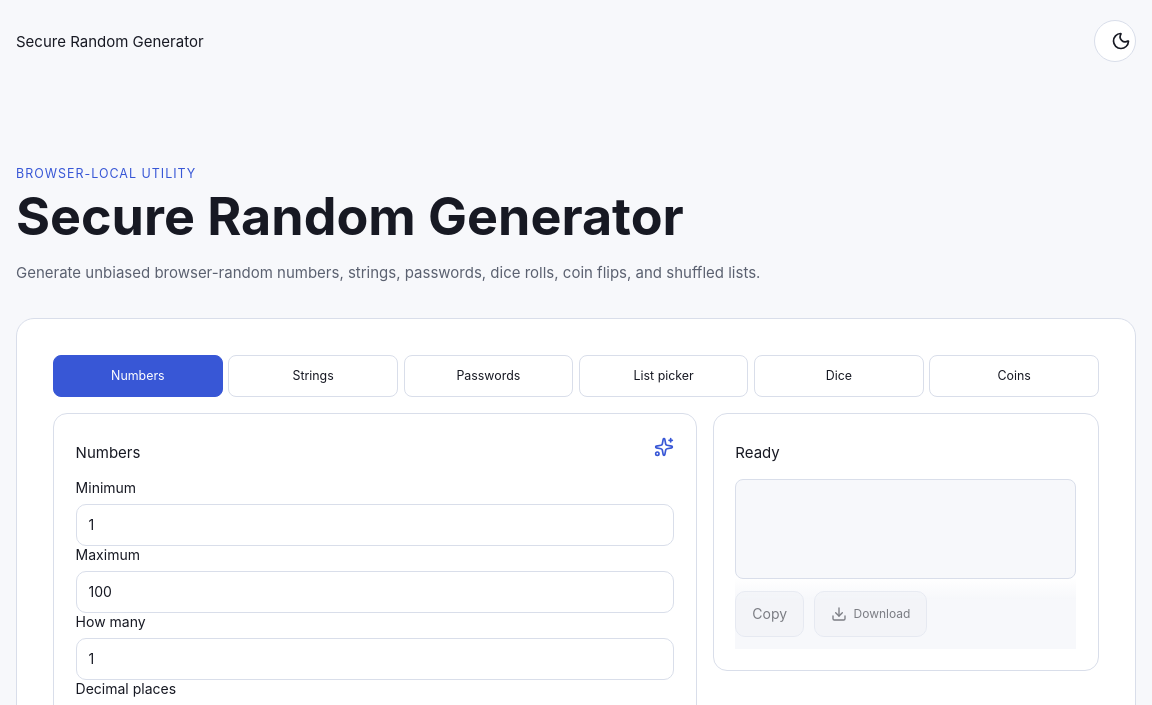
Random Generator › generates the full unique integer range in sorted order
Replace the text in the number field labelled "Maximum" with "3": (375, 592) left=76, top=571, right=674, bottom=613
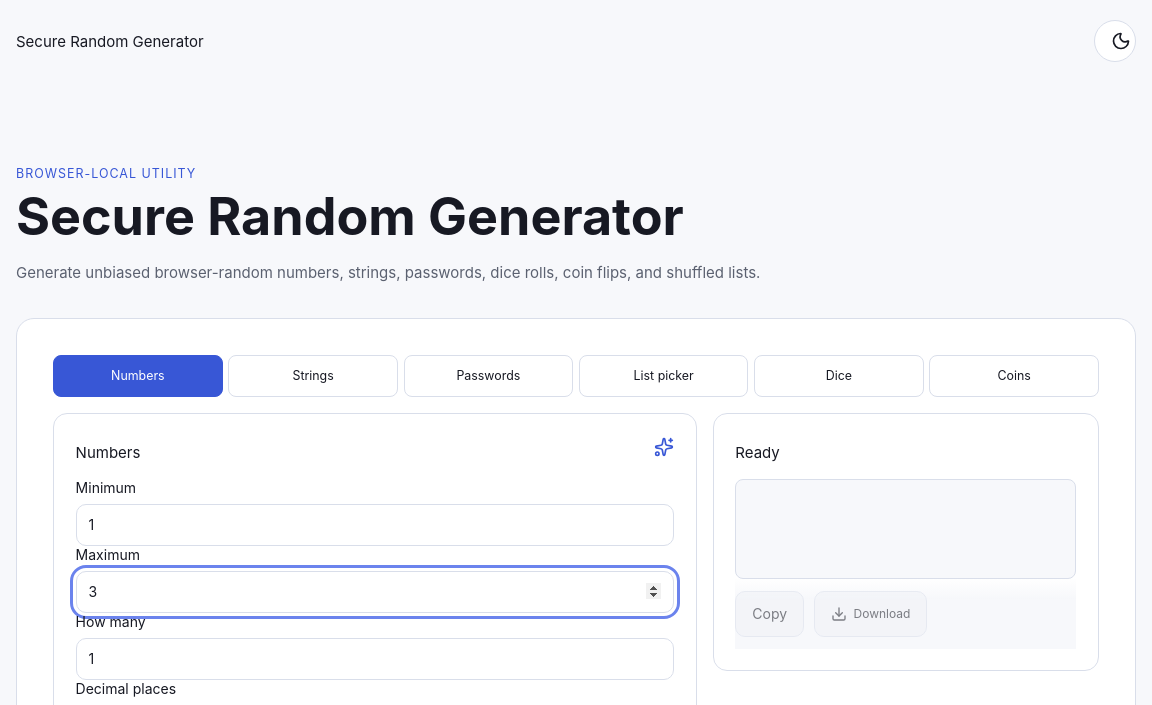
Replace the text in the number field labelled "How many" with "3": (375, 659) left=76, top=638, right=674, bottom=680
(page scrolled)
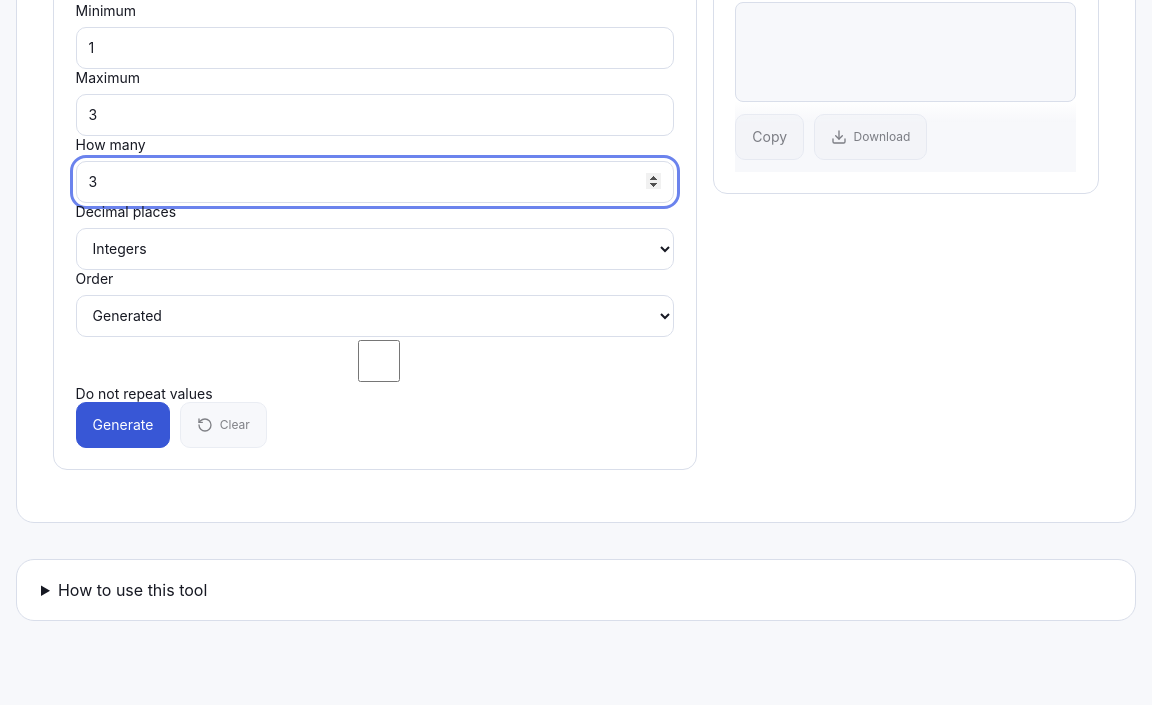
Click the checkbox labelled "Do not repeat values": click(379, 361) left=80, top=340, right=678, bottom=382
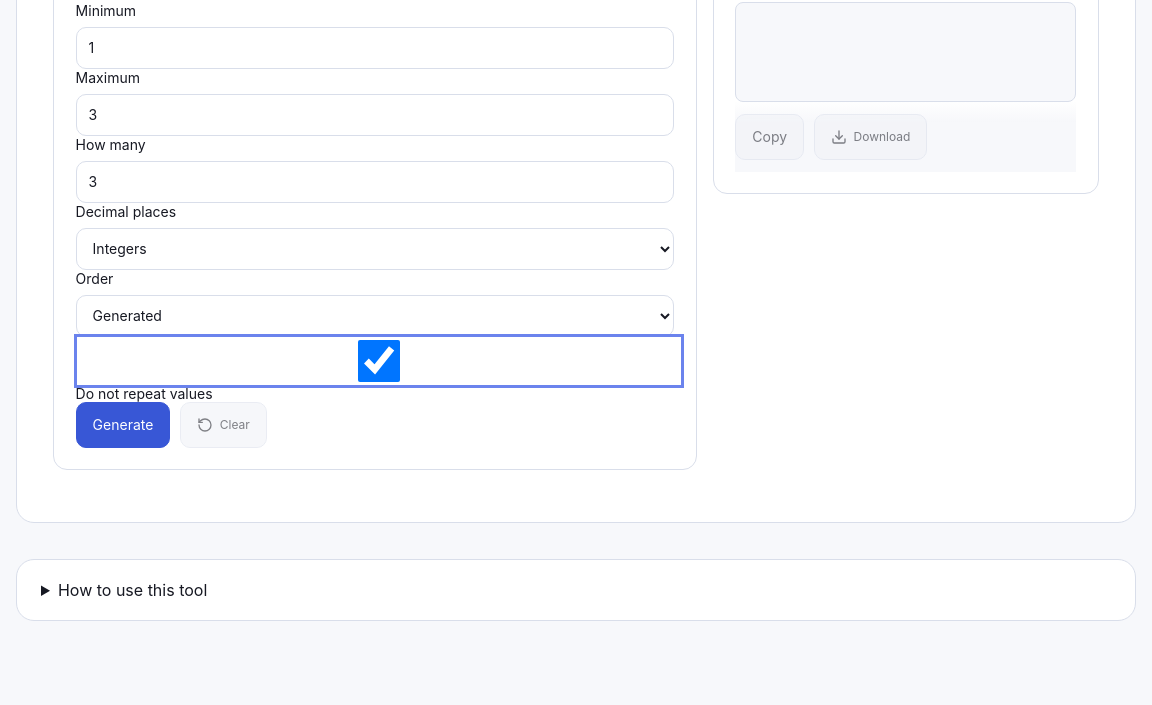
Select "Lowest" in the dropdown labelled "Order": (375, 316) left=76, top=295, right=674, bottom=337
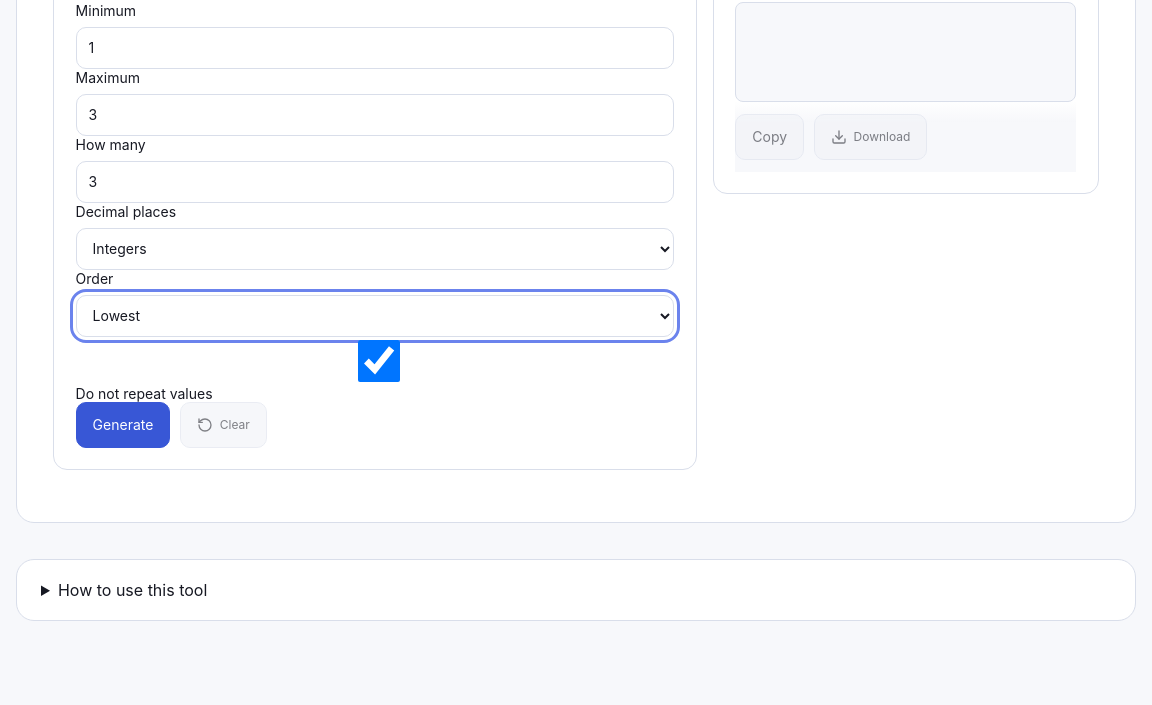
Click the button "Generate": click(123, 425) left=76, top=402, right=170, bottom=448
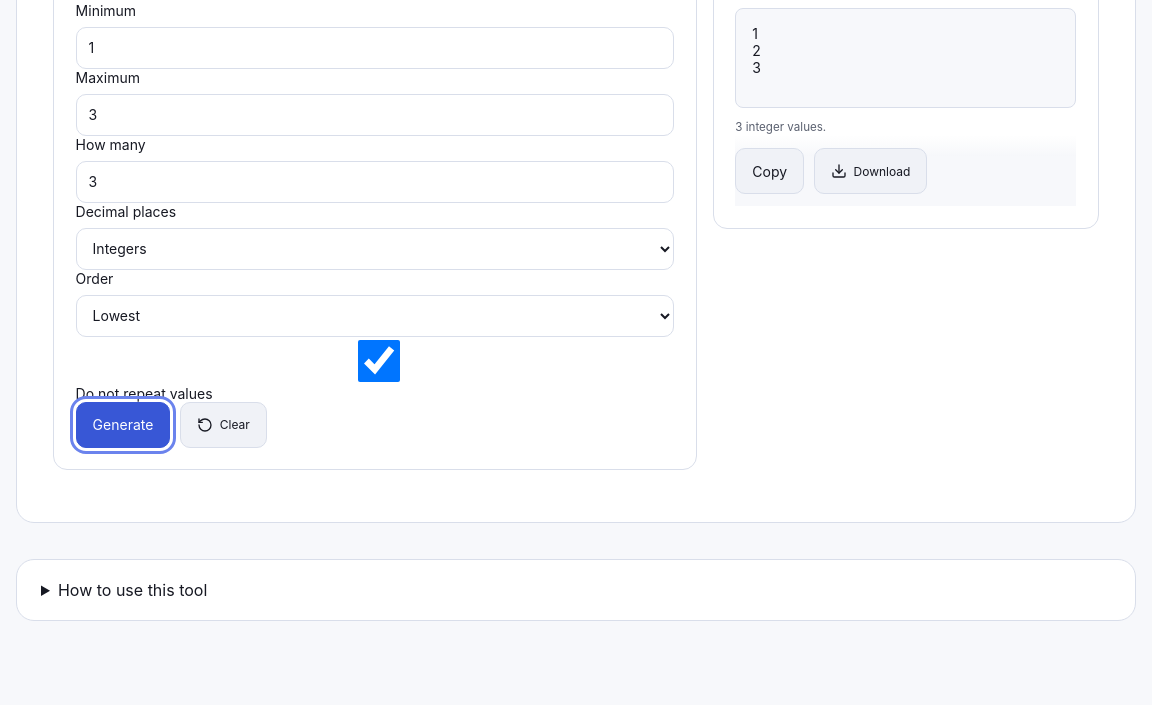
Result: the text "3 integer values." is shown at left=735, top=120, right=826, bottom=134
